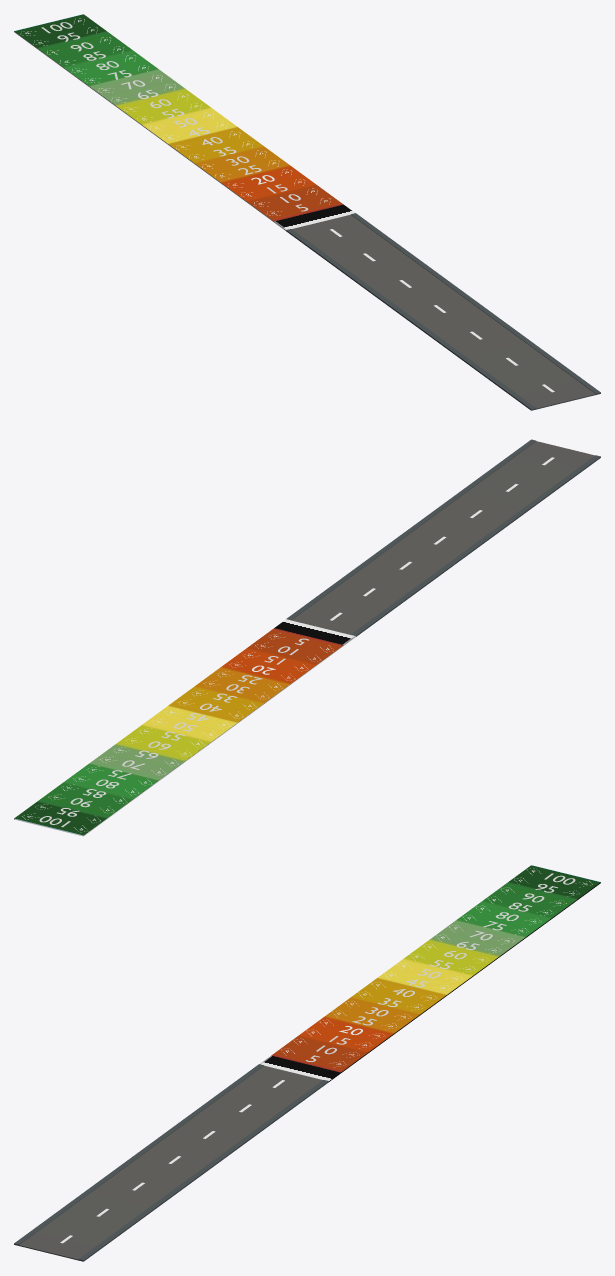
The model's file is yol.fbx.
3 renders of one model, top to bottom at view 1: azimuth 30°, elevation 25°; view 2: azimuth 150°, elevation 25°; view 3: azimuth 330°, elevation 25°, orthographic.
Parts seen in each view (by area): view 1: yol; view 2: yol; view 3: yol.
Boxes of the visible parts, x1=… form: yol: x1=14, y1=14, x2=600, y2=410; yol: x1=14, y1=439, x2=600, y2=836; yol: x1=14, y1=865, x2=600, y2=1261.
Bounding box in the file's own units: 477 × 9.01 × 6140.
